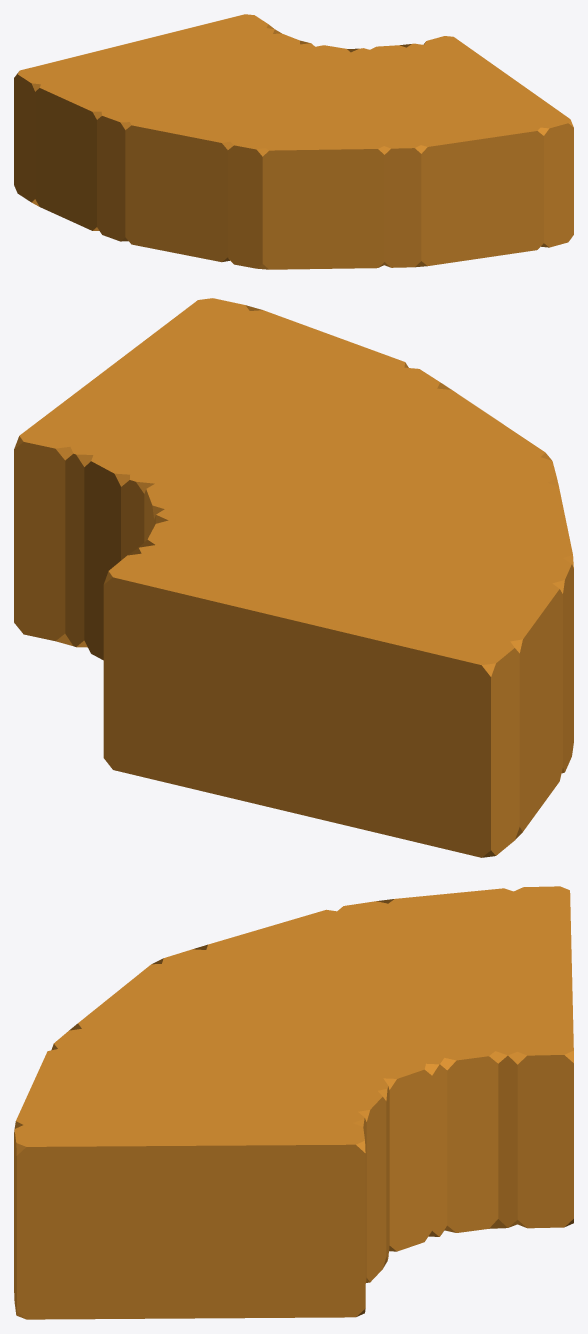
File: Railway_Curved_02.fbx
3 views of the same model, one above another, from view 1: azimuth 30°, elevation 25°; view 2: azimuth 150°, elevation 25°; view 3: azimuth 270°, elevation 25° (orthographic). The views are drawn at different scales.
Visible parts, largest first — view 1: curved light.001; view 2: curved light.001; view 3: curved light.001.
Part boxes in pixels (left/top/right/bottom): curved light.001: left=14, top=14, right=573, bottom=269; curved light.001: left=14, top=298, right=573, bottom=857; curved light.001: left=14, top=886, right=573, bottom=1319.
Bounding box in the file's own units: 245 × 75.63 × 222.
